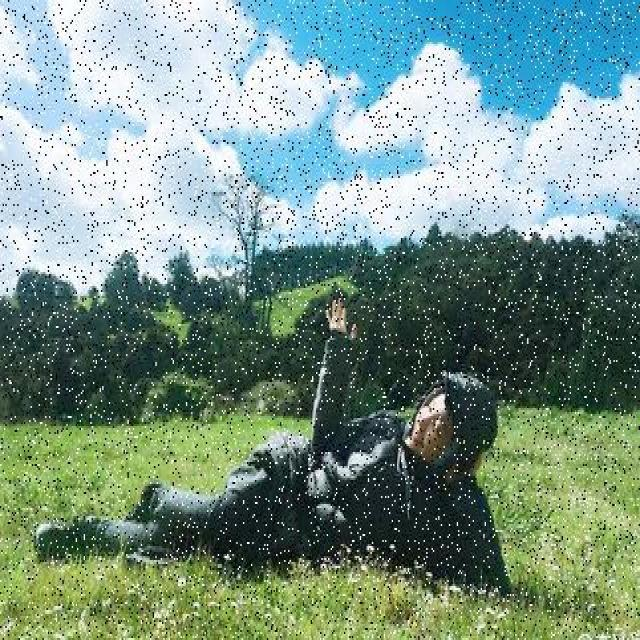fall: (48, 316, 504, 596)
